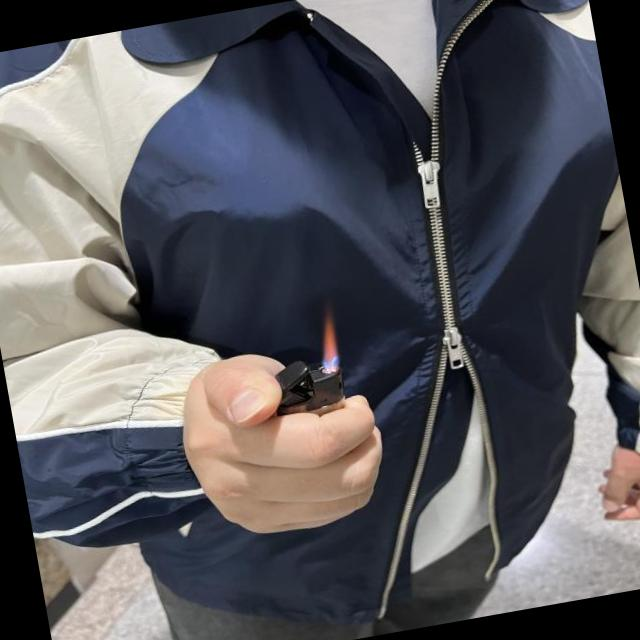Fire: (311, 317, 342, 368)
